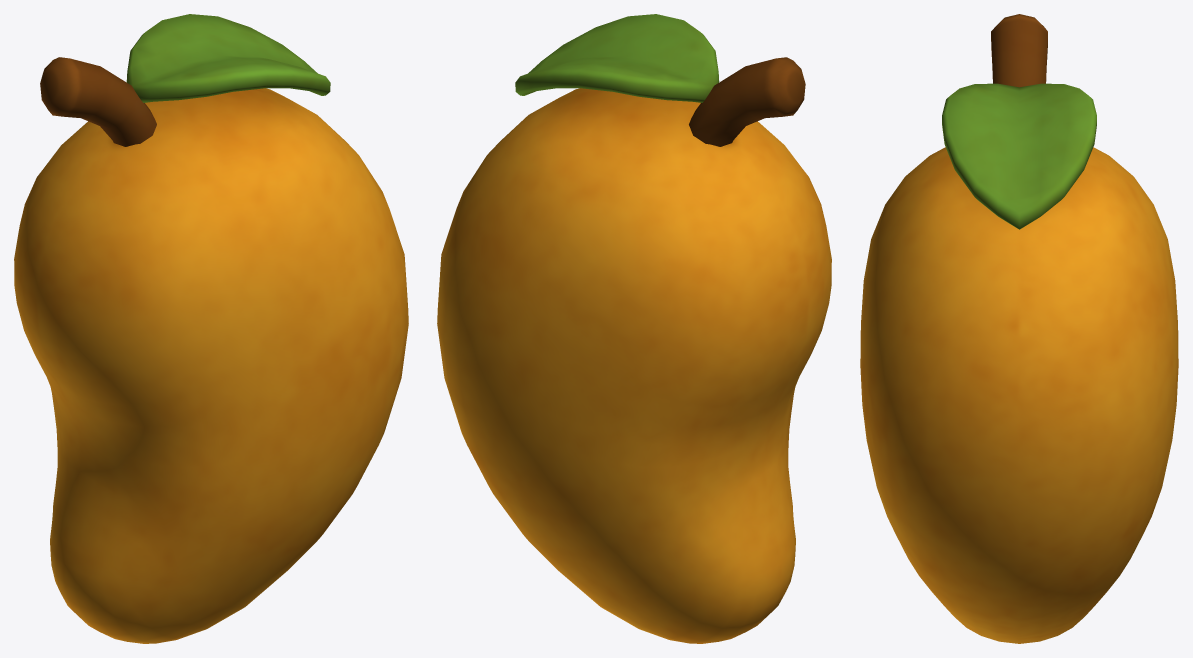
File: mango_yellow.fbx
3 renders of one model, left to right at view 1: azimuth 30°, elevation 25°; view 2: azimuth 150°, elevation 25°; view 3: azimuth 270°, elevation 25°, orthographic. The views are drawn at different scales.
Visible parts, largest first — view 1: pSphere38.002; view 2: pSphere38.002; view 3: pSphere38.002.
Part boxes in pixels (x1,y1,x2,y2): pSphere38.002: (14, 14, 408, 643); pSphere38.002: (437, 14, 831, 643); pSphere38.002: (860, 14, 1178, 643).
Bounding box in the file's own units: 0.4809 × 0.7784 × 0.3936.
